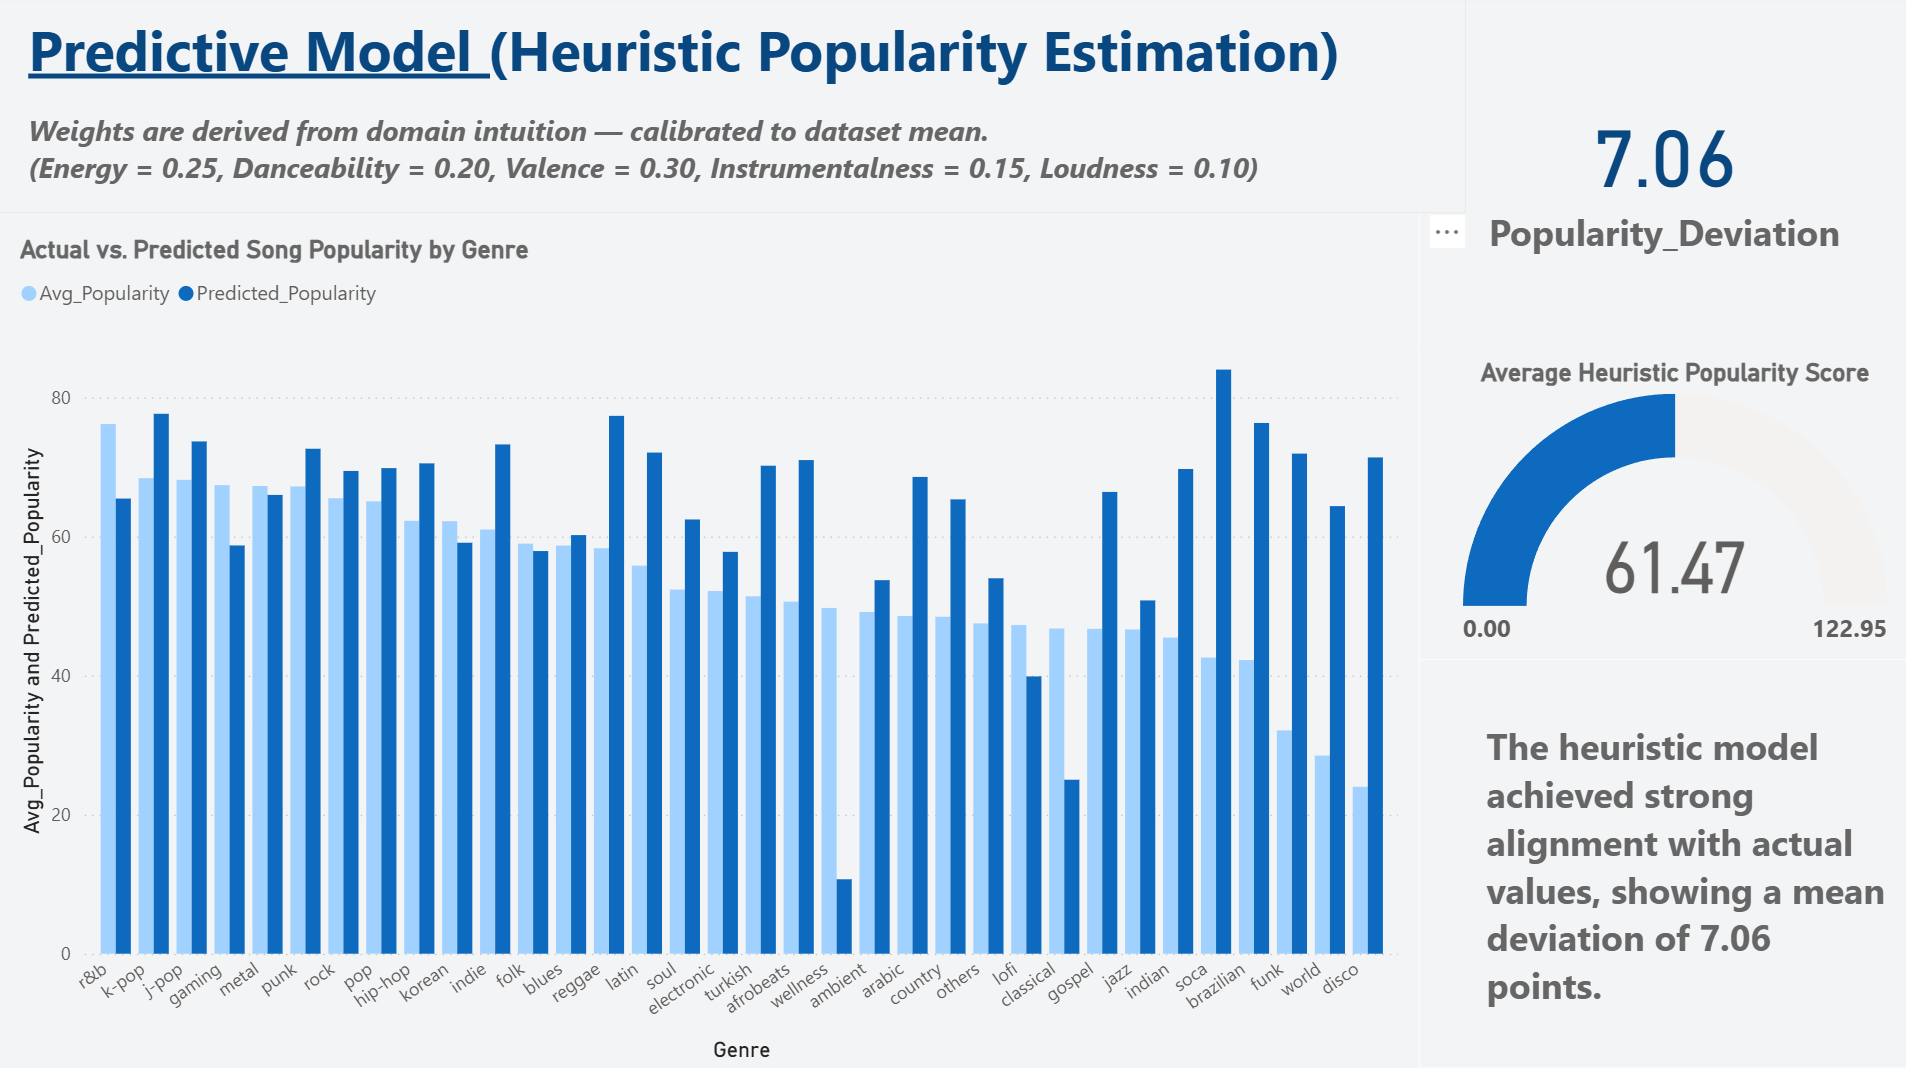

The page's visual inventory and layout, read from the dashboard file:
{"tool":"powerbi","page":{"name":"Predictive Model","canvas":[1280,720],"ordinal":4},"visuals":[{"type":"gauge","title":"Average Heuristic Popularity Score","fields":{"Y":["_Measures.Predicted_Popularity"]},"box":[952.2,237.8,327.8,208.9],"z":0},{"type":"clusteredColumnChart","title":"Actual vs. Predicted Song Popularity by Genre","fields":{"Category":["Spotify_data.Genre"],"Y":["_Measures.Avg_Popularity","_Measures.Predicted_Popularity"]},"box":[0,146.7,952.2,573.3],"z":1000},{"type":"card","fields":{"Values":["_Measures.Popularity_Deviation"]},"box":[952.2,0,327.8,237.8],"z":2000},{"type":"textbox","box":[0,0,983.3,146.7],"z":3000},{"type":"textbox","box":[952.2,446.7,327.8,273.3],"z":4000}]}

Visuals, with their boxes in screenshot pixels (x1, y1, x2, y2), scaled from the page's 1280x720 canvas onto the 1906x1068 screenshot:
"Average Heuristic Popularity Score" gauge: detection(1418, 353, 1905, 663)
"Actual vs. Predicted Song Popularity by Genre" clusteredColumnChart: detection(0, 218, 1418, 1067)
card - _Measures.Popularity_Deviation: detection(1418, 0, 1905, 353)
textbox: detection(0, 0, 1464, 218)
textbox: detection(1418, 663, 1905, 1067)
